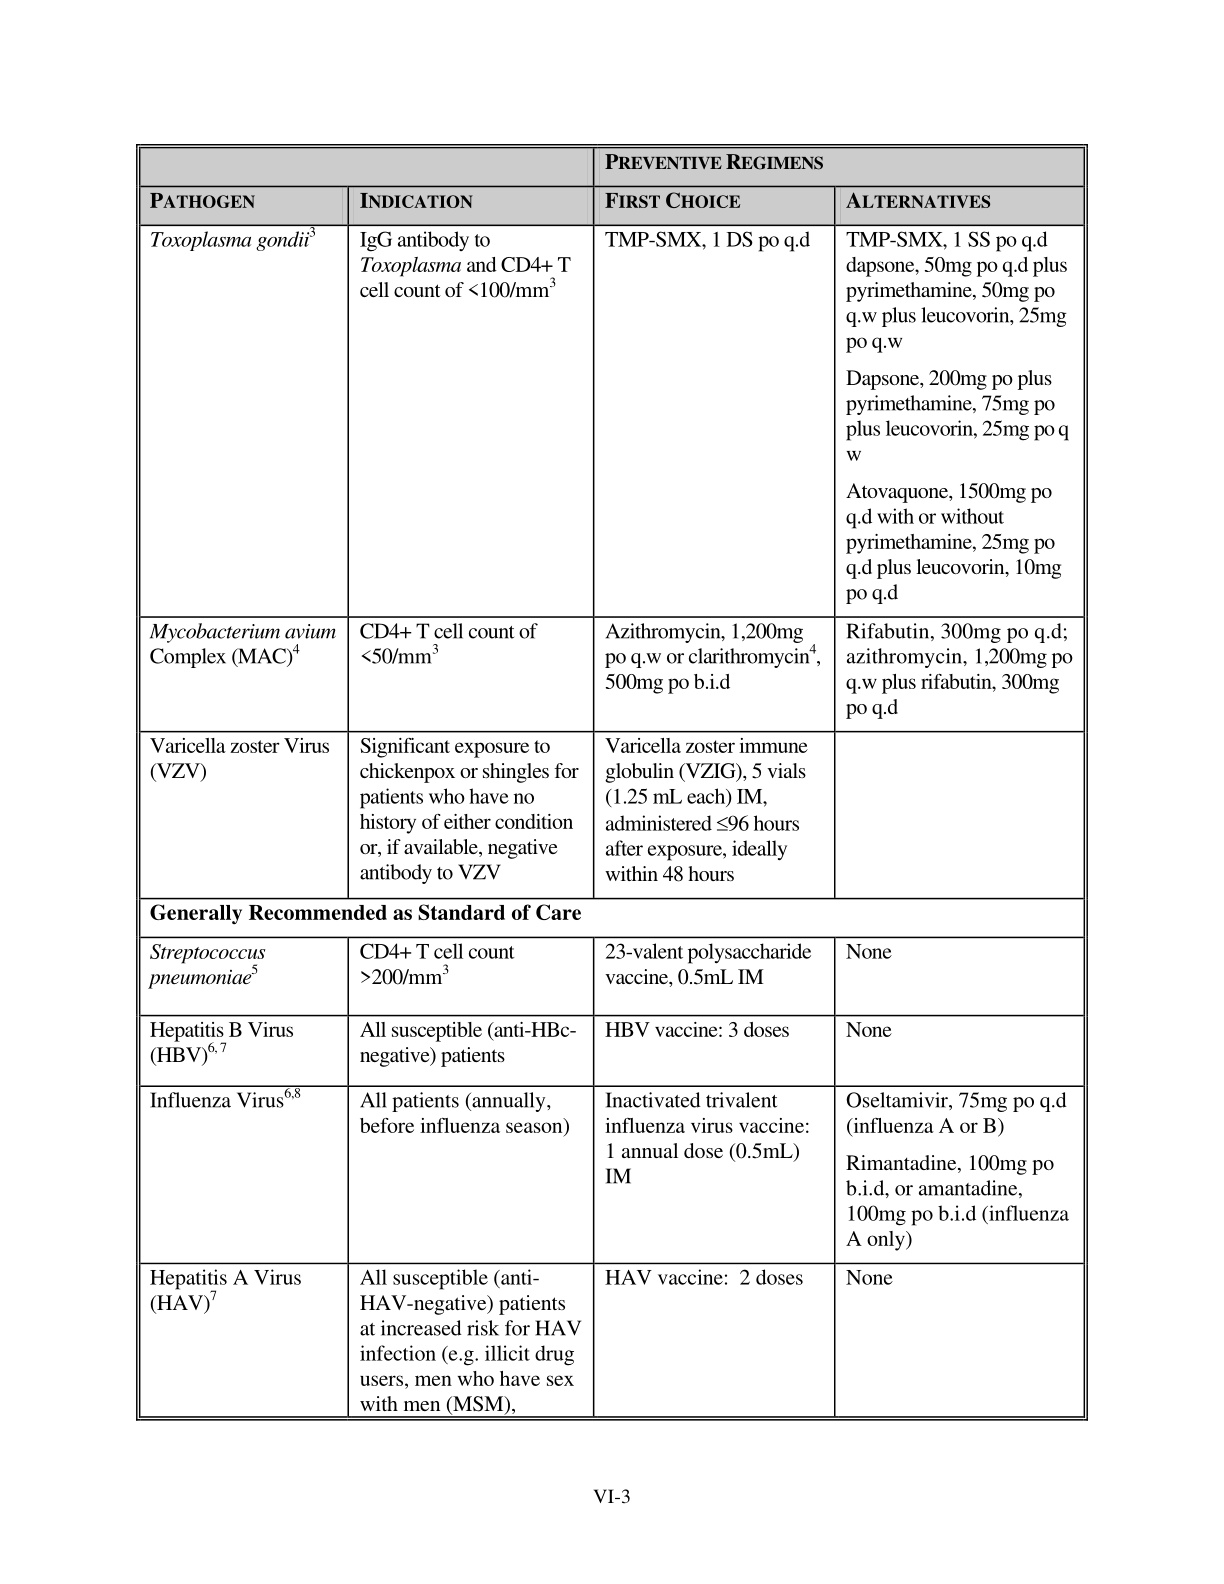merged_cells: (134, 141, 1090, 1423)
